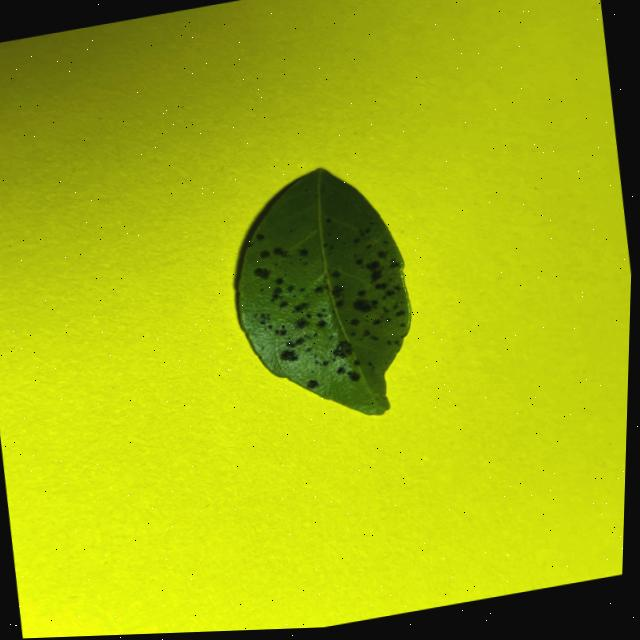sooty_mold: (239, 168, 411, 414)
